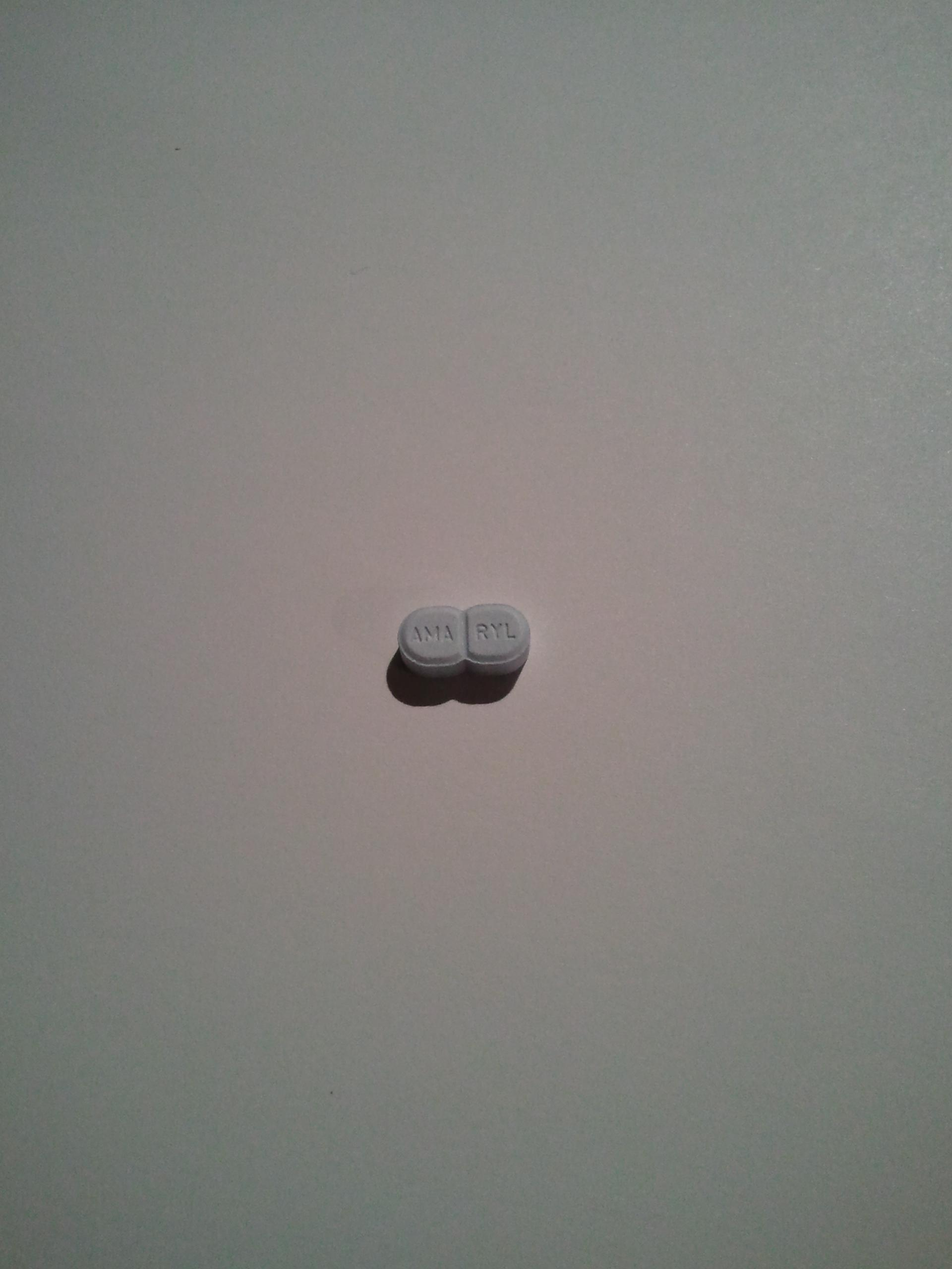Pill: (382, 590, 546, 702)
